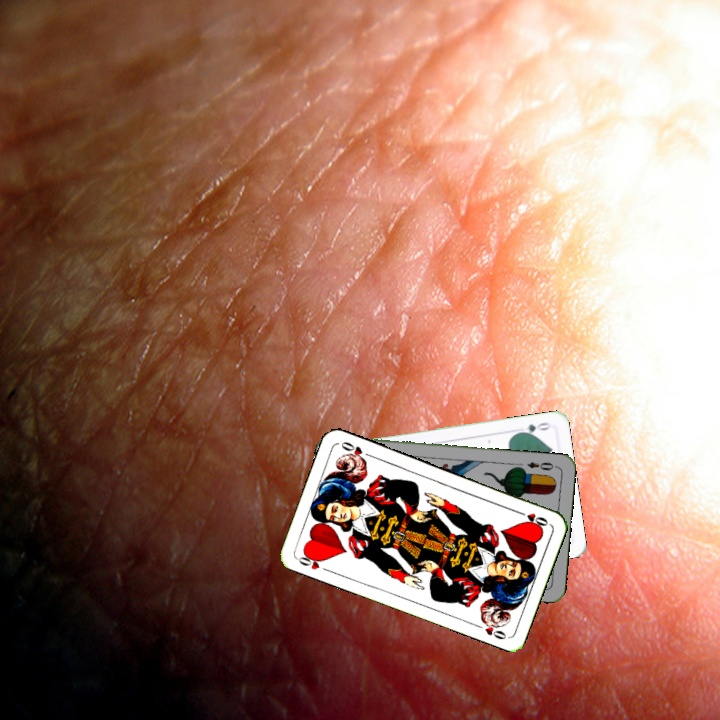EO: (523, 457, 559, 473)
GO: (513, 418, 553, 437)
HO: (293, 548, 332, 574), (512, 507, 551, 529)
